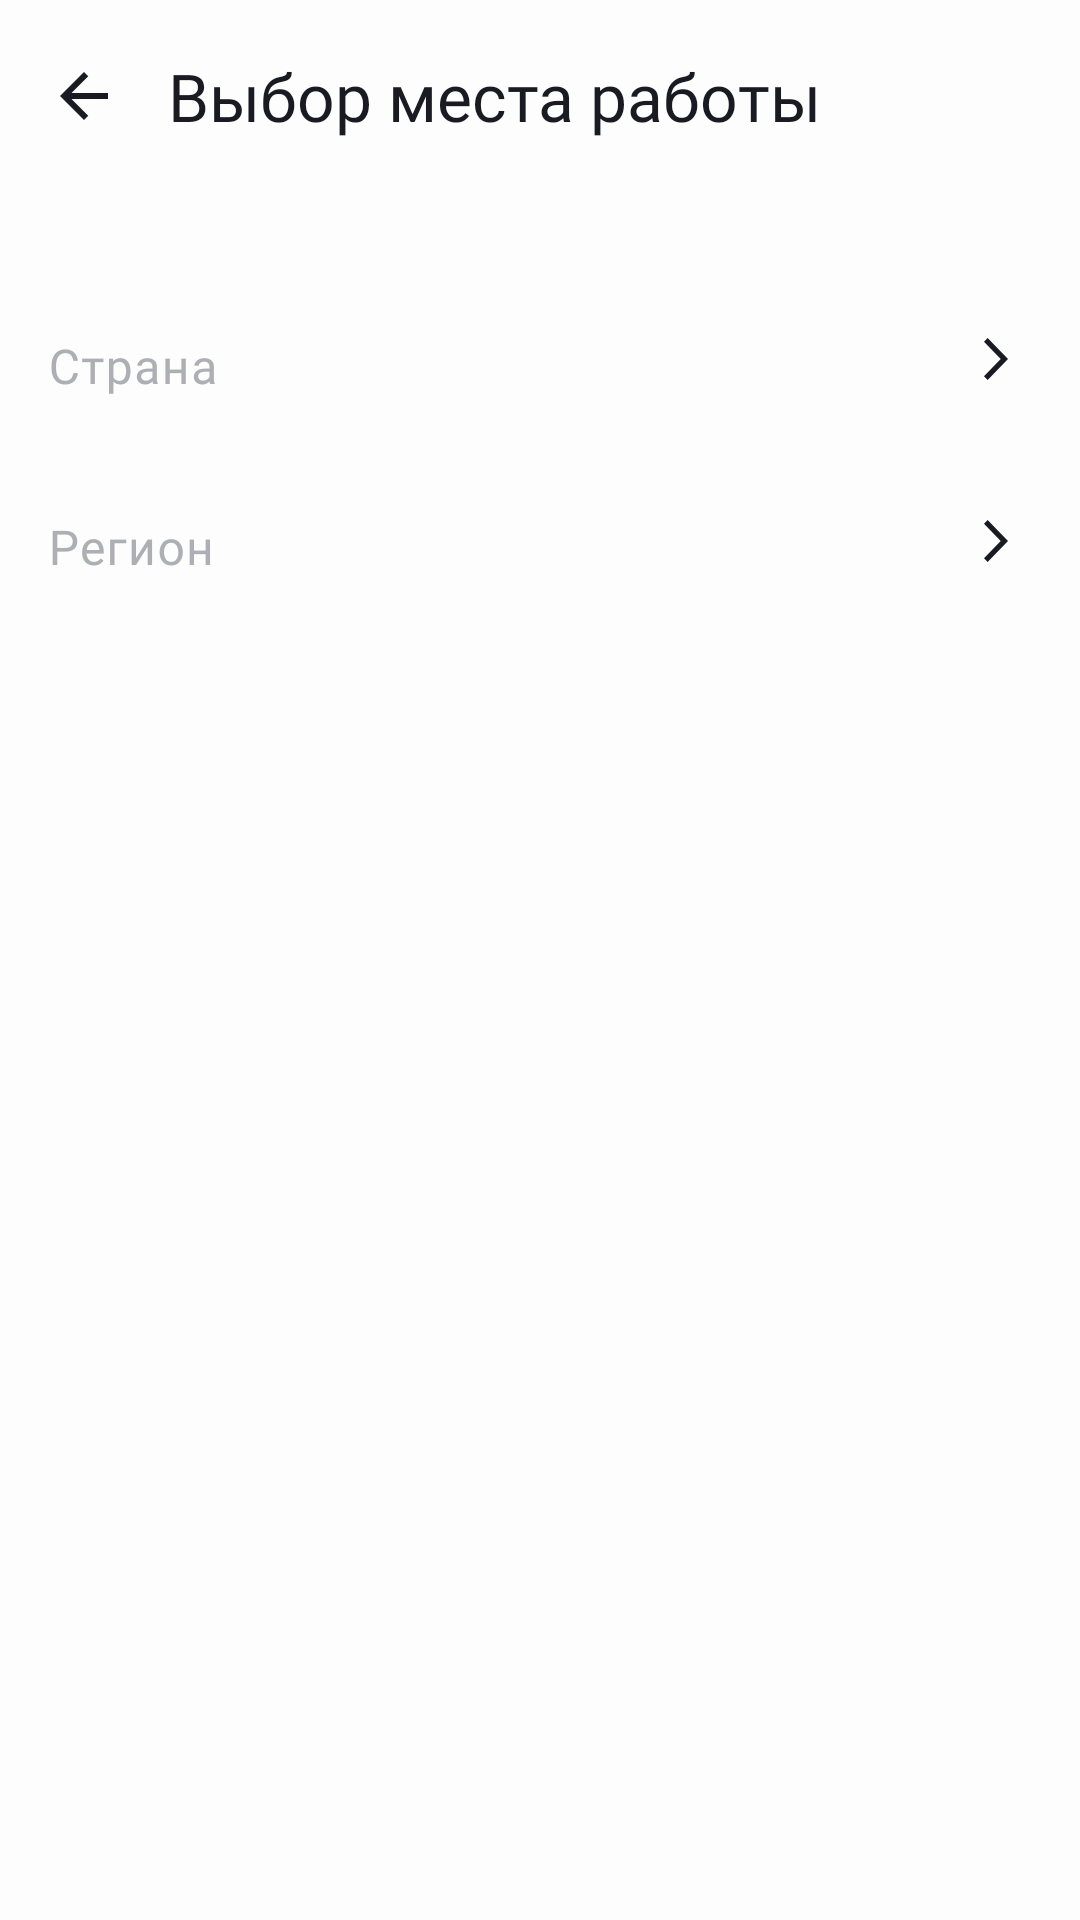

Icon click points for this 1080*1920 phone screenshot, format point (x, y):
arrow forward: point (996, 359), point (996, 541)
back: point (84, 96)
